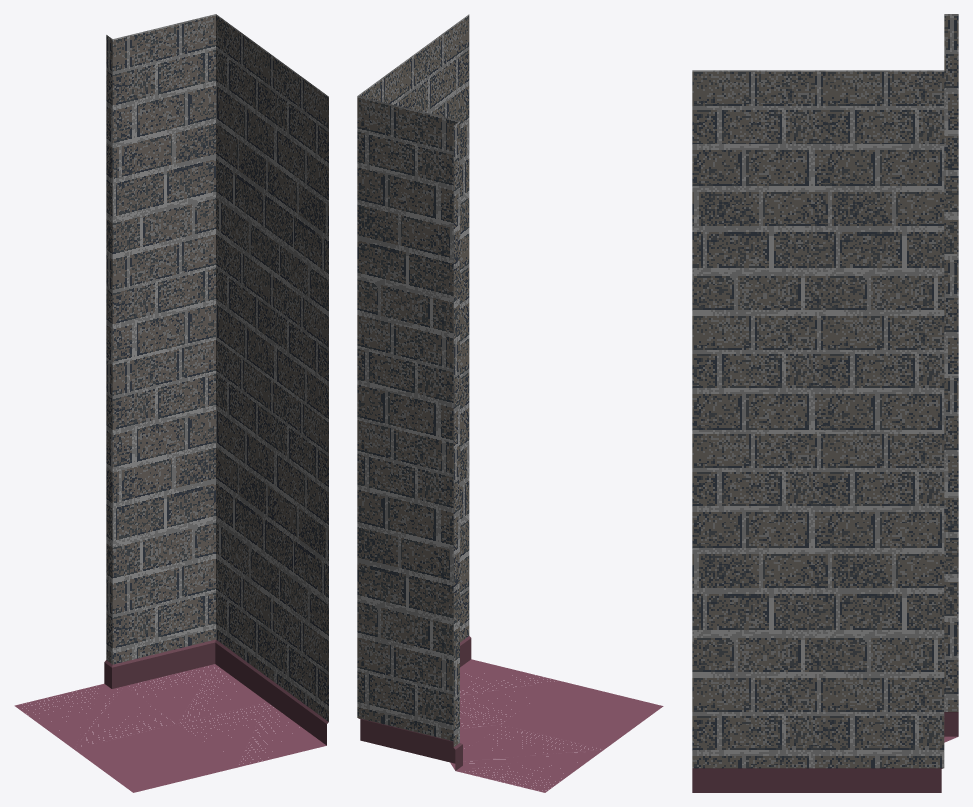
File: tiles.glb
3 views of the same model, side by side, from view 1: azimuth 30°, elevation 25°; view 2: azimuth 150°, elevation 25°; view 3: azimuth 270°, elevation 25° (orthographic). The views are drawn at different scales.
Parts seen in each view (by area): view 1: Corner_Floor-col, Corner-col, Wall_Floor-col, Wall-col, Convex_Floor-col, Floor-col, Convex-col; view 2: Corner-col, Corner_Floor-col, Convex_Floor-col, Wall_Floor-col, Wall-col, Floor-col, Convex-col; view 3: Wall-col, Wall_Floor-col, Corner-col, Corner_Floor-col, Convex_Floor-col, Convex-col.
Part boxes in pixels (x1,y1,x2,y2): Corner_Floor-col: (124,338,269,723); Corner-col: (124,14,269,376); Wall_Floor-col: (177,377,328,767); Wall-col: (269,53,328,420); Convex_Floor-col: (14,359,176,748); Floor-col: (74,724,236,792); Convex-col: (106,35,123,363); Corner-col: (357,58,448,440); Corner_Floor-col: (357,418,501,762); Convex_Floor-col: (449,441,603,792); Wall_Floor-col: (460,337,560,724); Wall-col: (410,14,469,342); Floor-col: (502,681,663,749); Convex-col: (449,118,459,447); Wall-col: (692,70,825,431); Wall_Floor-col: (692,432,825,792); Corner-col: (825,70,944,431); Corner_Floor-col: (825,432,944,792); Convex_Floor-col: (944,376,958,742); Convex-col: (944,14,958,375).
Size of the model in its own units: 1.89 by 6 by 2.
Materials: 3 (2 with a texture image).
